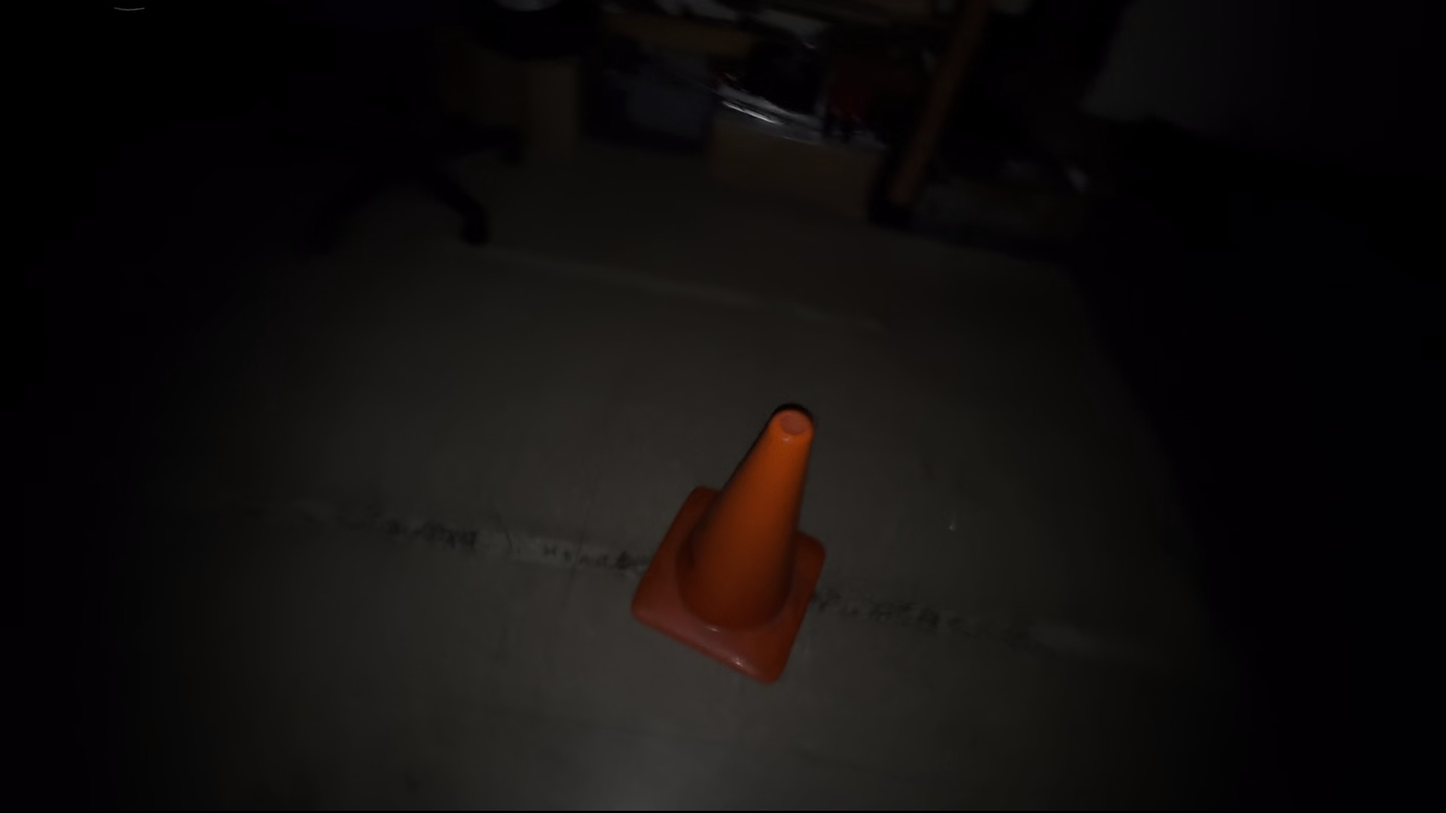traffic_cone: (629, 401, 827, 684)
